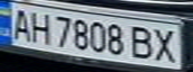0: (87, 20, 109, 54)
7: (48, 14, 72, 48)
8: (106, 21, 130, 57), (69, 16, 90, 52)
A: (6, 7, 36, 42)
B: (127, 24, 160, 61)
H: (24, 9, 54, 45)
X: (148, 26, 184, 65)
